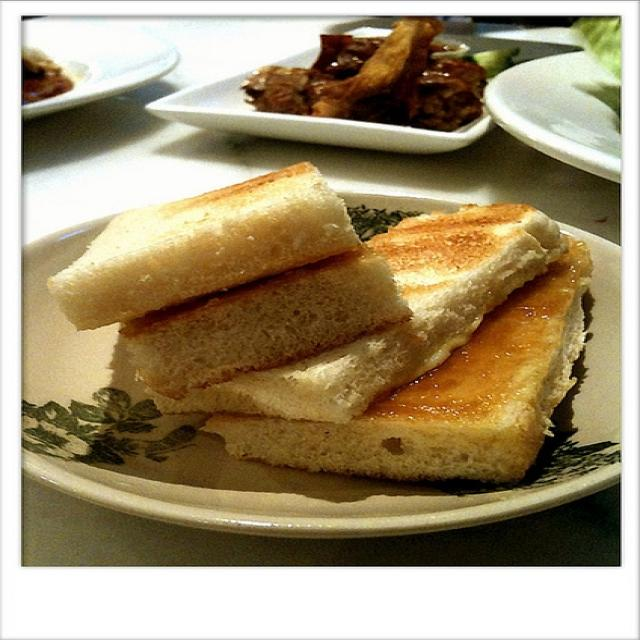面包点心: (35, 152, 617, 522)
